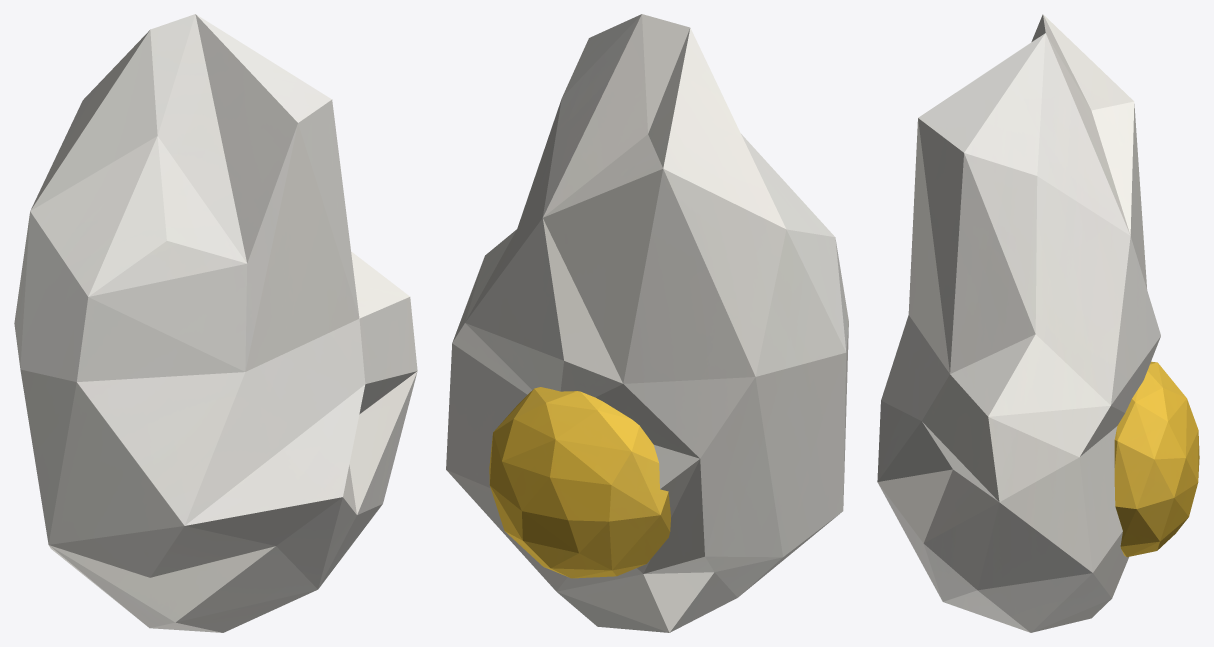
The model's file is CrackingEggs-2.obj.
3 views of the same model, side by side, from view 1: azimuth 30°, elevation 25°; view 2: azimuth 150°, elevation 25°; view 3: azimuth 270°, elevation 25° (orthographic). The views are drawn at different scales.
Parts seen in each view (by area): view 1: Sphere.004; view 2: Sphere.004; view 3: Sphere.004.
Part boxes in pixels (x1,y1,x2,y2): Sphere.004: [14, 14, 417, 632]; Sphere.004: [446, 14, 848, 632]; Sphere.004: [877, 14, 1199, 632].
Bounding box in the file's own units: 0.0654 × 0.0965 × 0.0487.
